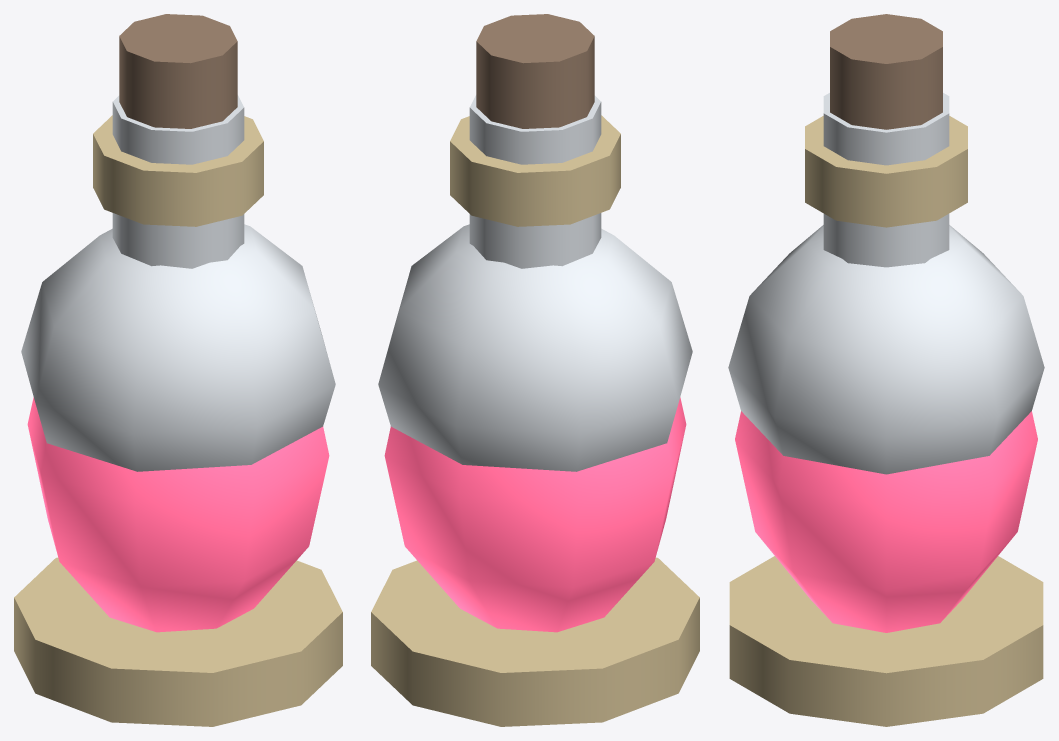
Rendered from vitality-vial.glb.
The picture shows the model from 3 angles, left to right: view 1: azimuth 30°, elevation 25°; view 2: azimuth 150°, elevation 25°; view 3: azimuth 270°, elevation 25°; orthographic projection.
Parts seen in each view (by area): view 1: GlassShoulder, BottleBody, BottleBase, CorkStopper, NeckRing, BottleNeck; view 2: GlassShoulder, BottleBody, BottleBase, CorkStopper, NeckRing, BottleNeck; view 3: GlassShoulder, BottleBody, BottleBase, CorkStopper, NeckRing, BottleNeck.
Part boxes in pixels (left/top/right/bottom): GlassShoulder: left=21, top=224, right=335, bottom=471; BottleBody: left=27, top=397, right=329, bottom=632; BottleBase: left=14, top=557, right=342, bottom=726; CorkStopper: left=119, top=14, right=237, bottom=128; NeckRing: left=93, top=115, right=263, bottom=226; BottleNeck: left=112, top=95, right=244, bottom=268; GlassShoulder: left=378, top=224, right=692, bottom=471; BottleBody: left=384, top=397, right=686, bottom=632; BottleBase: left=371, top=557, right=699, bottom=726; CorkStopper: left=476, top=14, right=594, bottom=128; NeckRing: left=450, top=115, right=620, bottom=226; BottleNeck: left=469, top=95, right=601, bottom=268; GlassShoulder: left=728, top=225, right=1044, bottom=474; BottleBody: left=735, top=411, right=1037, bottom=632; BottleBase: left=729, top=556, right=1043, bottom=726; CorkStopper: left=830, top=14, right=942, bottom=129; NeckRing: left=805, top=116, right=967, bottom=227; BottleNeck: left=823, top=93, right=949, bottom=267.
Size of the model in its own units: 0.25 by 0.5175 by 0.24.
